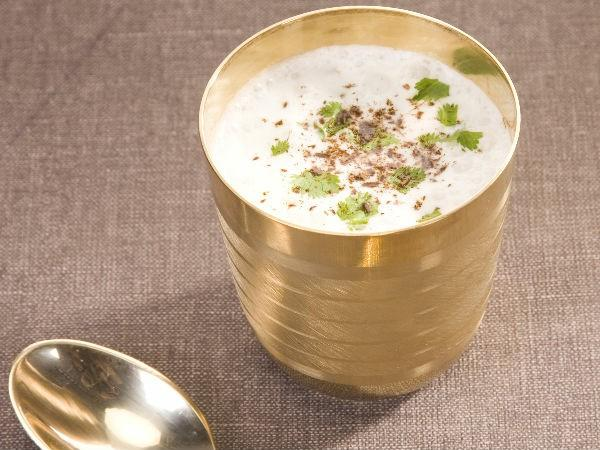Lassi: (209, 44, 509, 236)
